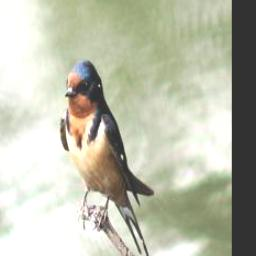Swallow: (57, 57, 151, 256)
